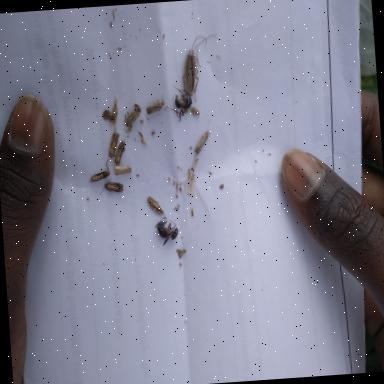pbw: (191, 118, 213, 162), (96, 177, 128, 195), (110, 136, 128, 166), (143, 94, 166, 117), (106, 126, 121, 160), (145, 194, 167, 216), (109, 96, 121, 132), (124, 104, 142, 128), (88, 170, 111, 184), (113, 165, 132, 176)
